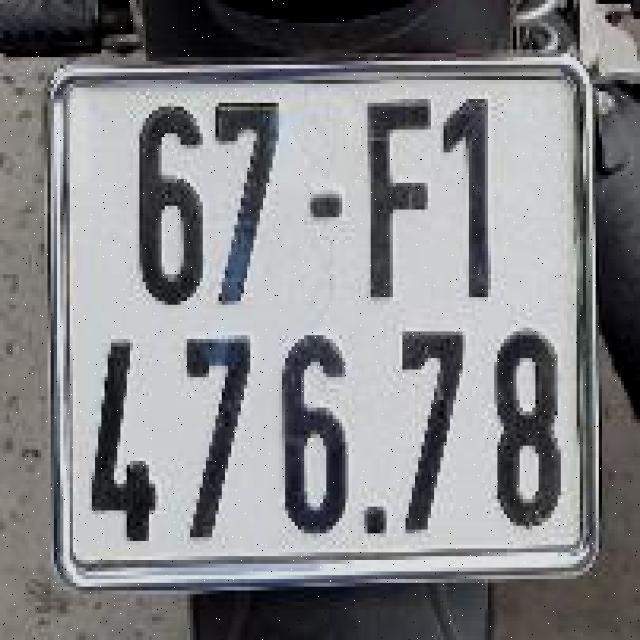1: (437, 76, 523, 305)
4: (73, 322, 168, 558)
6: (277, 314, 363, 543), (124, 91, 212, 312)
7: (201, 91, 293, 312), (392, 310, 468, 554), (180, 316, 253, 560)
8: (488, 301, 564, 537)
F: (350, 78, 439, 311)
